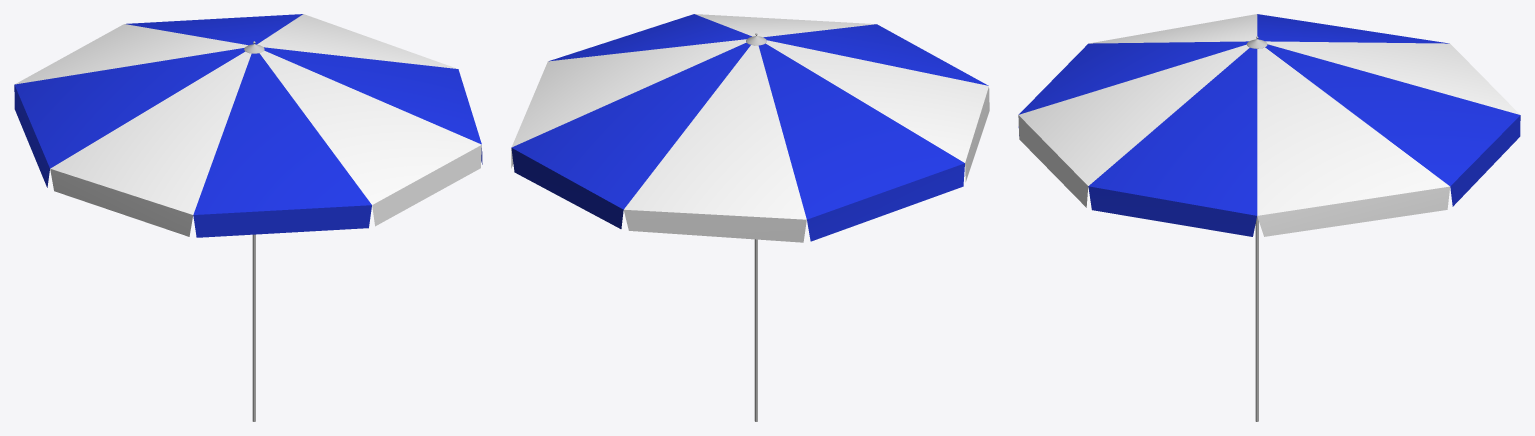
Rendered from umbrella.fbx.
3 views of the same model, side by side, from view 1: azimuth 30°, elevation 25°; view 2: azimuth 150°, elevation 25°; view 3: azimuth 270°, elevation 25° (orthographic). The views are drawn at different scales.
Visible parts, largest first — view 1: umbrella, bar; view 2: umbrella, bar; view 3: umbrella, bar.
Part boxes in pixels (x1,y1,x2,y2): umbrella: (14, 14, 482, 237); bar: (252, 234, 255, 421); umbrella: (511, 14, 989, 242); bar: (754, 239, 757, 421); umbrella: (1018, 14, 1520, 236); bar: (1255, 216, 1258, 421).
Bounding box in the file's own units: 485 × 431 × 510.
